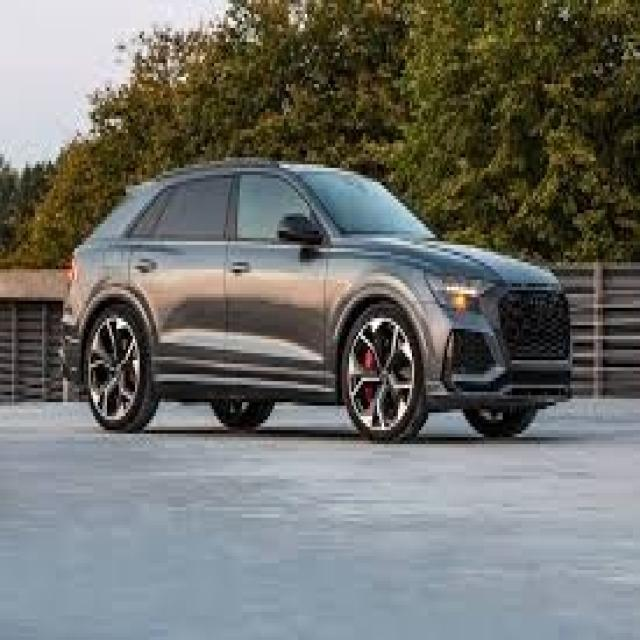black: (62, 153, 568, 465)
